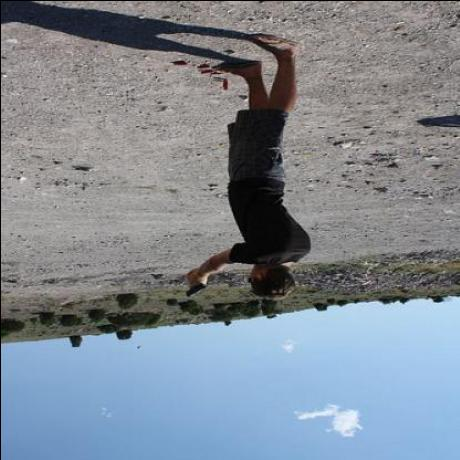1: (187, 30, 313, 300)
weapon: (180, 268, 211, 299)
